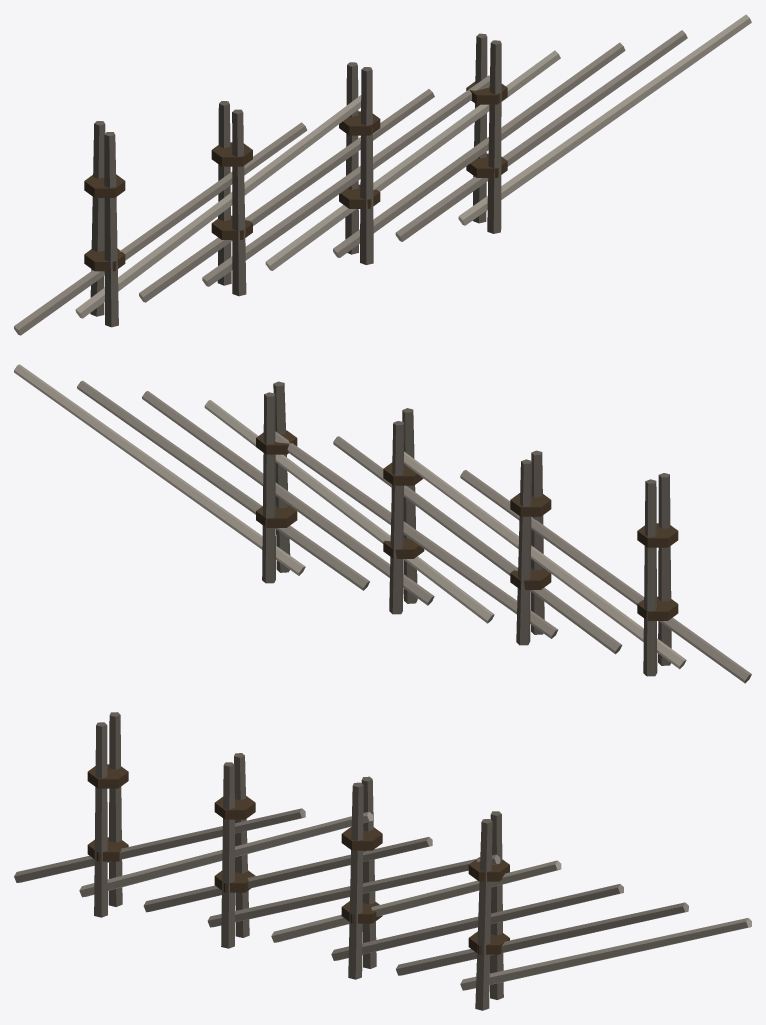
File: forest_gardsgard_c.glb
3 views of the same model, one above another, from view 1: azimuth 30°, elevation 25°; view 2: azimuth 150°, elevation 25°; view 3: azimuth 330°, elevation 25° (orthographic).
Parts seen in each view (by area): view 1: forest_gardsgard_c; view 2: forest_gardsgard_c; view 3: forest_gardsgard_c.
Part boxes in pixels (x1,y1,x2,y2): forest_gardsgard_c: (14,14,751,335); forest_gardsgard_c: (14,364,751,683); forest_gardsgard_c: (14,712,751,1010).
Size of the model in its own units: 5.78 by 1.44 by 0.2905.
